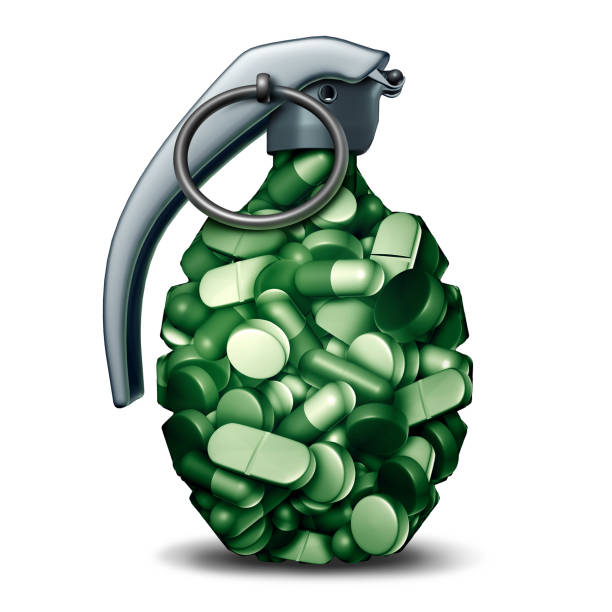e1: (101, 36, 475, 567)
